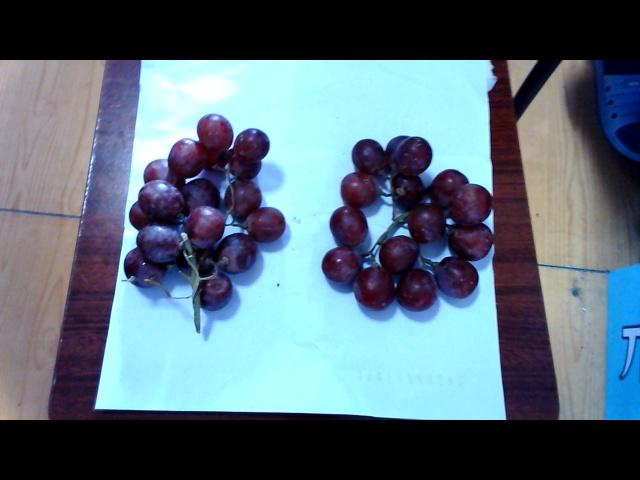grape: (323, 128, 493, 328), (127, 111, 288, 318)
